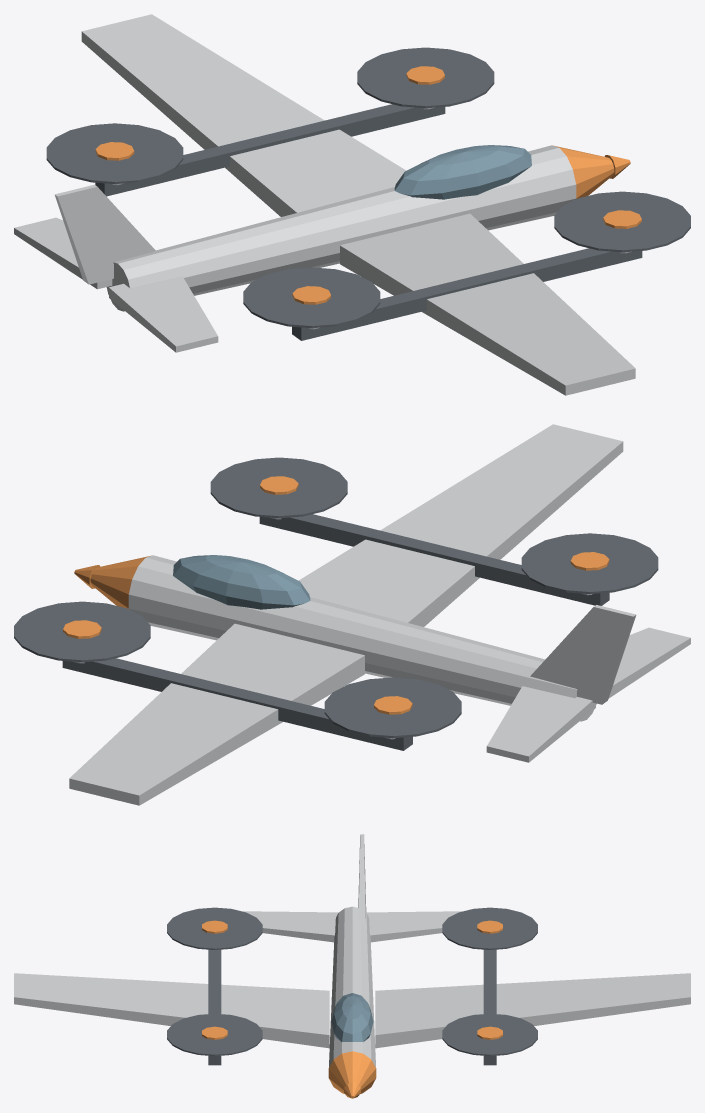
File: quadplane-vtol.glb
3 renders of one model, top to bottom at view 1: azimuth 30°, elevation 25°; view 2: azimuth 150°, elevation 25°; view 3: azimuth 270°, elevation 25°, orthographic. The views are drawn at different scales.
Size of the model in its own units: 5.65 by 1.25 by 8.36.
